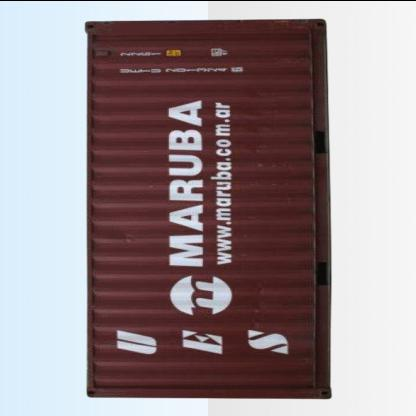Damage: (242, 121, 271, 171), (246, 284, 270, 328), (260, 20, 320, 34), (262, 53, 306, 67), (112, 230, 134, 249), (288, 352, 312, 369), (232, 211, 262, 223)
